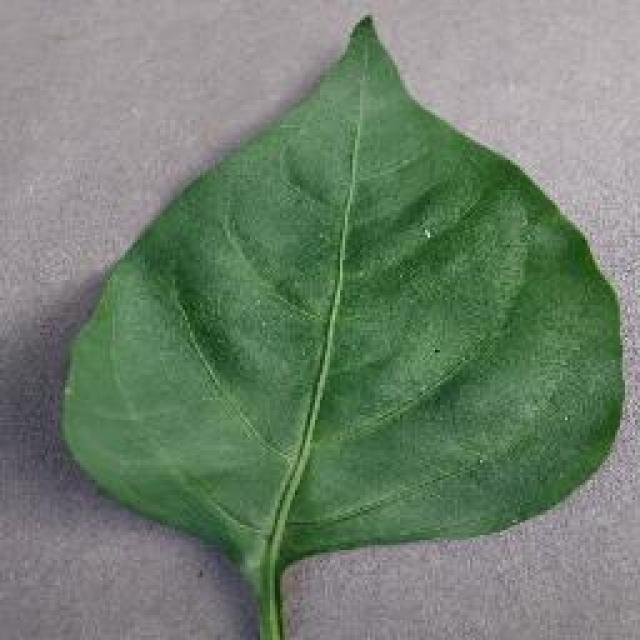Leaf: (52, 16, 638, 618)
